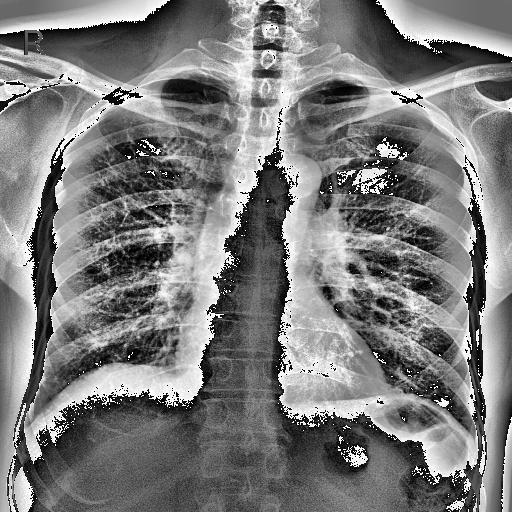0- Aortic enlargement: (264, 150, 322, 202)
13- Pulmonary fibrosis: (96, 140, 122, 185), (422, 318, 468, 334), (419, 322, 466, 334), (420, 322, 474, 332)
5- ILD: (64, 130, 150, 388)
